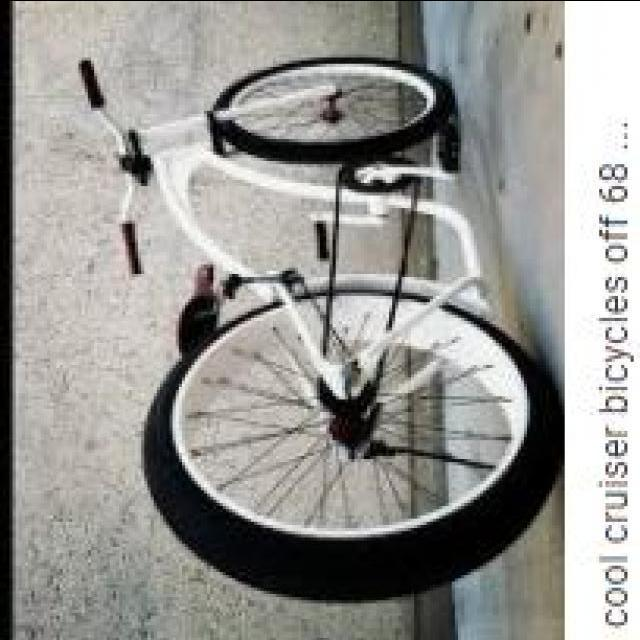bicycle: (139, 35, 543, 597)
